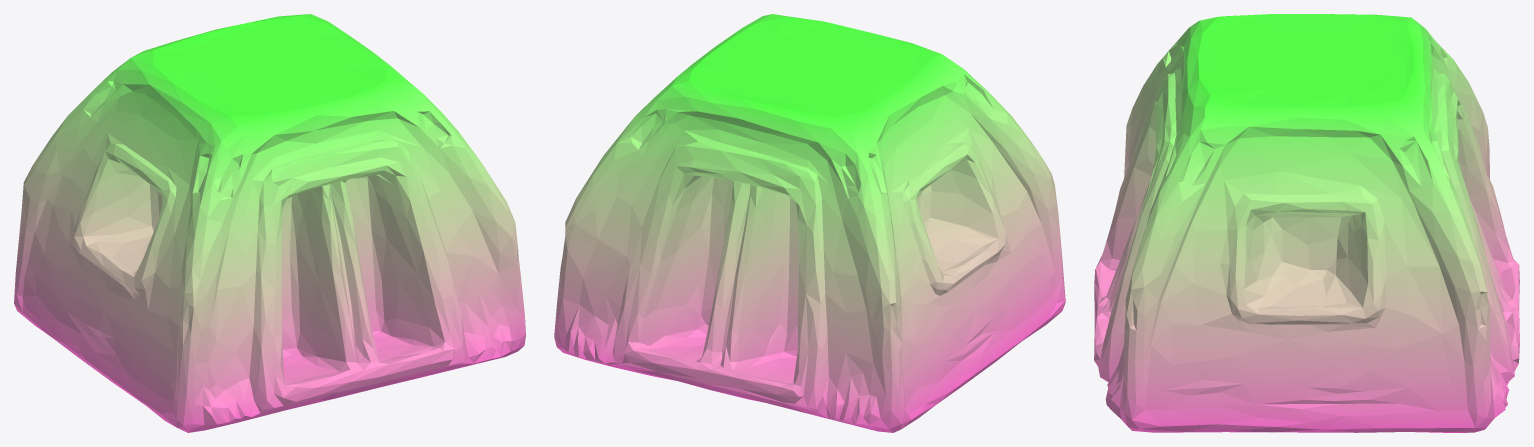
Rendered from 169_cyb_laser_gradient_fish_scales_2952_2026_10_03_923ff0.glb.
The picture shows the model from 3 angles, left to right: view 1: azimuth 30°, elevation 25°; view 2: azimuth 150°, elevation 25°; view 3: azimuth 270°, elevation 25°; orthographic projection. The views are drawn at different scales.
Parts seen in each view (by area): view 1: geometry_0; view 2: geometry_0; view 3: geometry_0.
Boxes of the visible parts, <box> form: geometry_0: <box>14,14,525,432</box>; geometry_0: <box>554,14,1065,432</box>; geometry_0: <box>1094,14,1519,432</box>.
Size of the model in its own units: 1 by 0.7402 by 0.9877.
